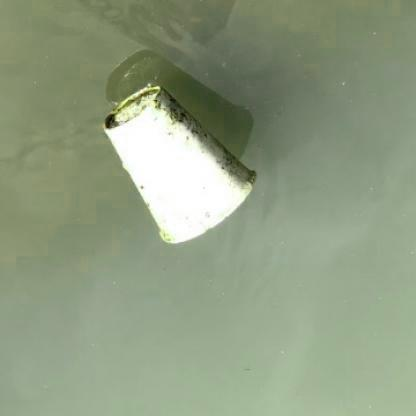Plastic: (100, 81, 260, 247)
